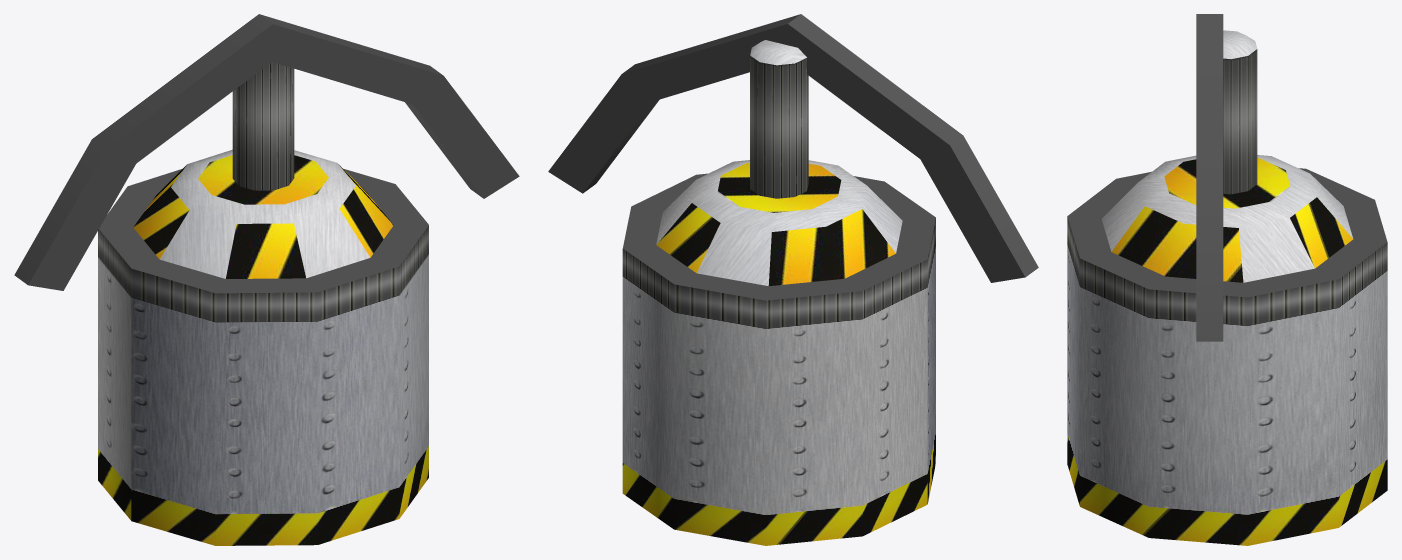
Rendered from HookLvl3.FBX.
3 renders of one model, left to right at view 1: azimuth 30°, elevation 25°; view 2: azimuth 150°, elevation 25°; view 3: azimuth 270°, elevation 25°, orthographic. The views are drawn at different scales.
Parts seen in each view (by area): view 1: HookLvl3; view 2: HookLvl3; view 3: HookLvl3.
Boxes of the visible parts, x1,y1,x2,y2 form: HookLvl3: (14, 14, 519, 545); HookLvl3: (548, 14, 1038, 545); HookLvl3: (1067, 14, 1387, 545).
Bounding box in the file's own units: 19.99 × 18.18 × 11.45.
